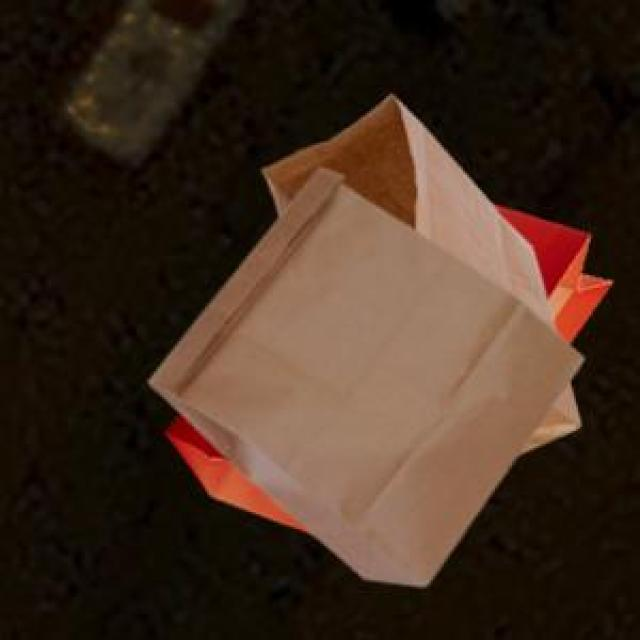PaperCardboard: (146, 87, 614, 590)
